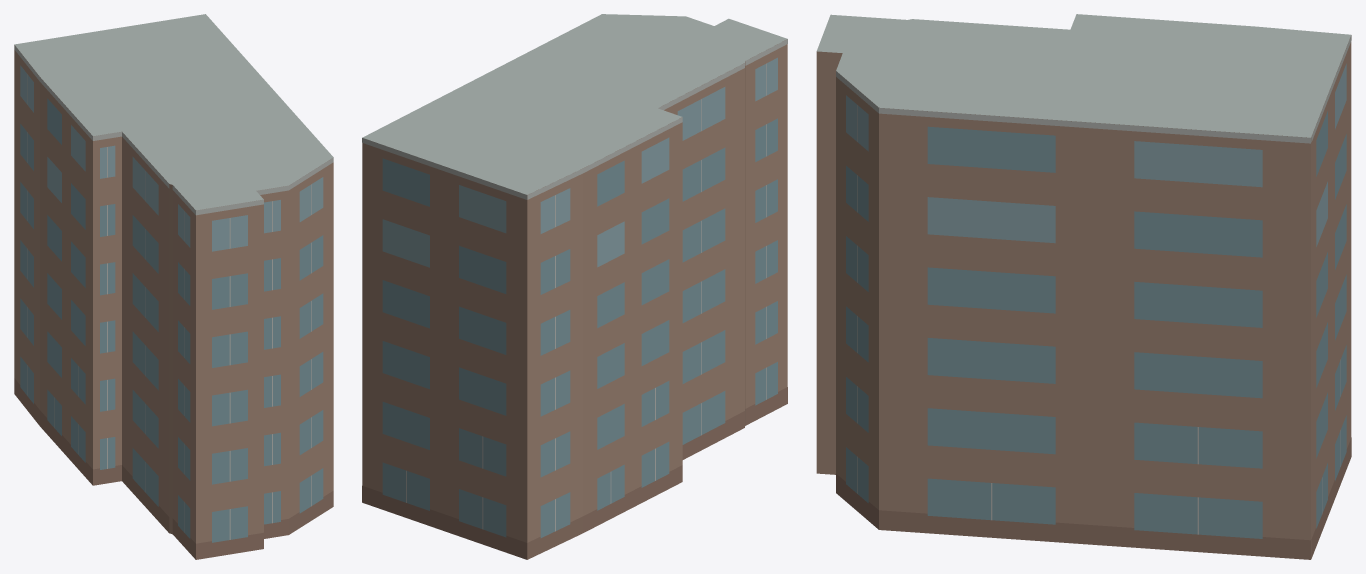
Rendered from survey-upis-32954175.glb.
3 views of the same model, side by side, from view 1: azimuth 30°, elevation 25°; view 2: azimuth 150°, elevation 25°; view 3: azimuth 270°, elevation 25° (orthographic). The views are drawn at different scales.
Visible parts, largest first — view 1: survey-upis-32954175.tmp; view 2: survey-upis-32954175.tmp; view 3: survey-upis-32954175.tmp.
Boxes of the visible parts, x1,y1,x2,y2 form: survey-upis-32954175.tmp: [14, 14, 333, 559]; survey-upis-32954175.tmp: [362, 14, 787, 559]; survey-upis-32954175.tmp: [816, 14, 1351, 559].
Bounding box in the file's own units: 11.04 × 17.55 × 20.16.
